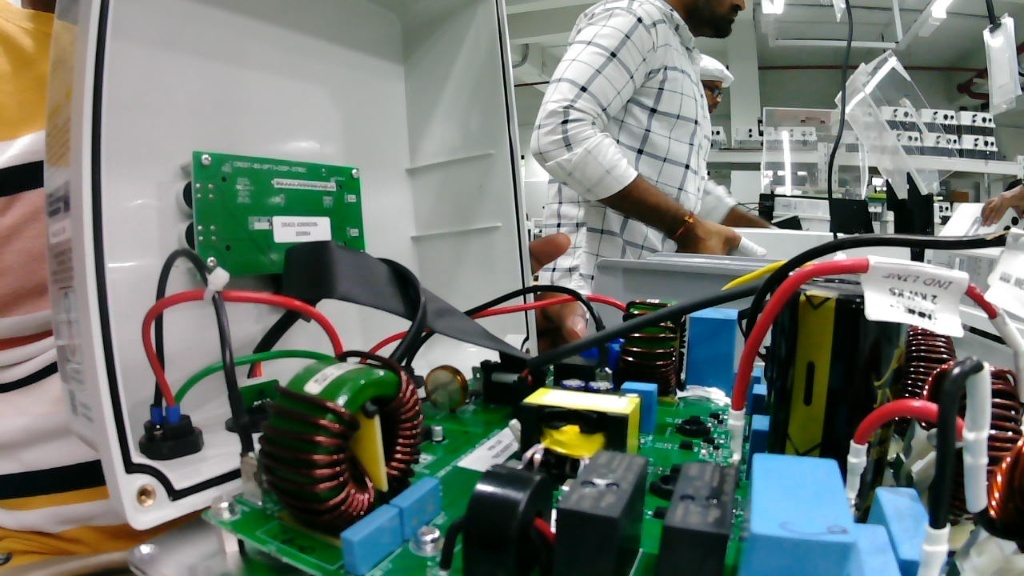wire_red: (111, 290, 233, 464)
